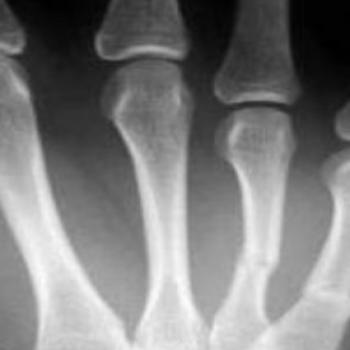Fracture: (229, 249, 282, 279), (300, 278, 350, 299)
